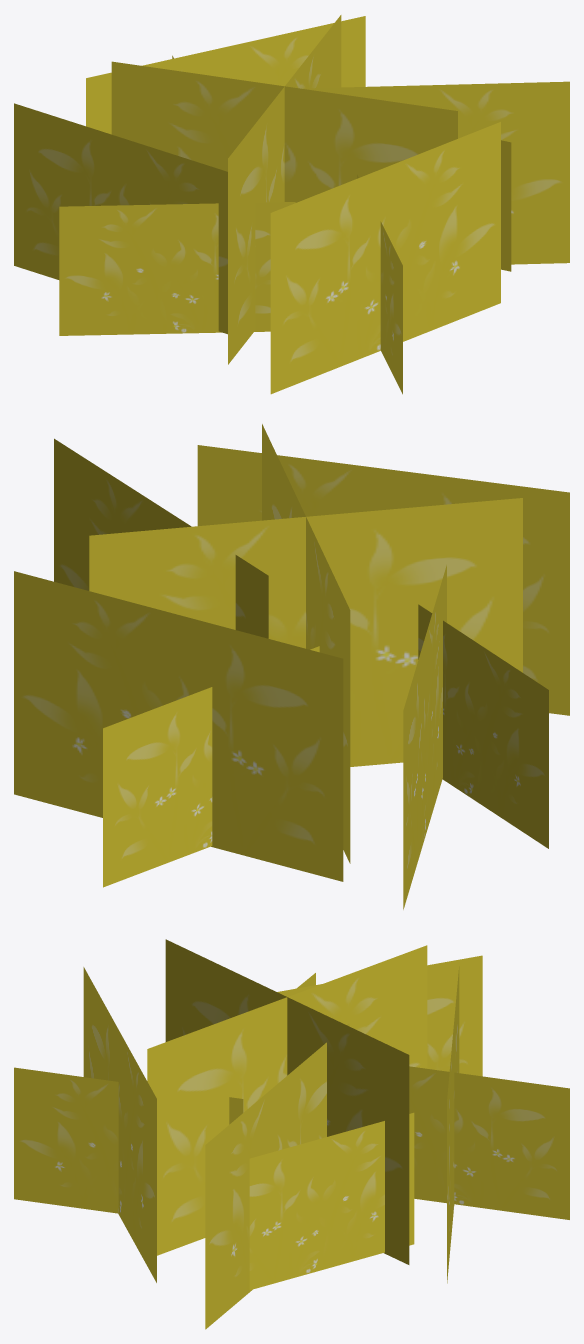
File: Grass04.fbx
3 renders of one model, top to bottom at view 1: azimuth 30°, elevation 25°; view 2: azimuth 150°, elevation 25°; view 3: azimuth 270°, elevation 25°, orthographic. The views are drawn at different scales.
Parts seen in each view (by area): view 1: Grass04_LOD0; view 2: Grass04_LOD0; view 3: Grass04_LOD0.
Part boxes in pixels (box(x1,y1,x2,y2)): Grass04_LOD0: box(14, 15, 569, 394); Grass04_LOD0: box(14, 424, 569, 909); Grass04_LOD0: box(14, 939, 569, 1329).
Size of what is drawn, in the model's own units: 261 by 114 by 270.
